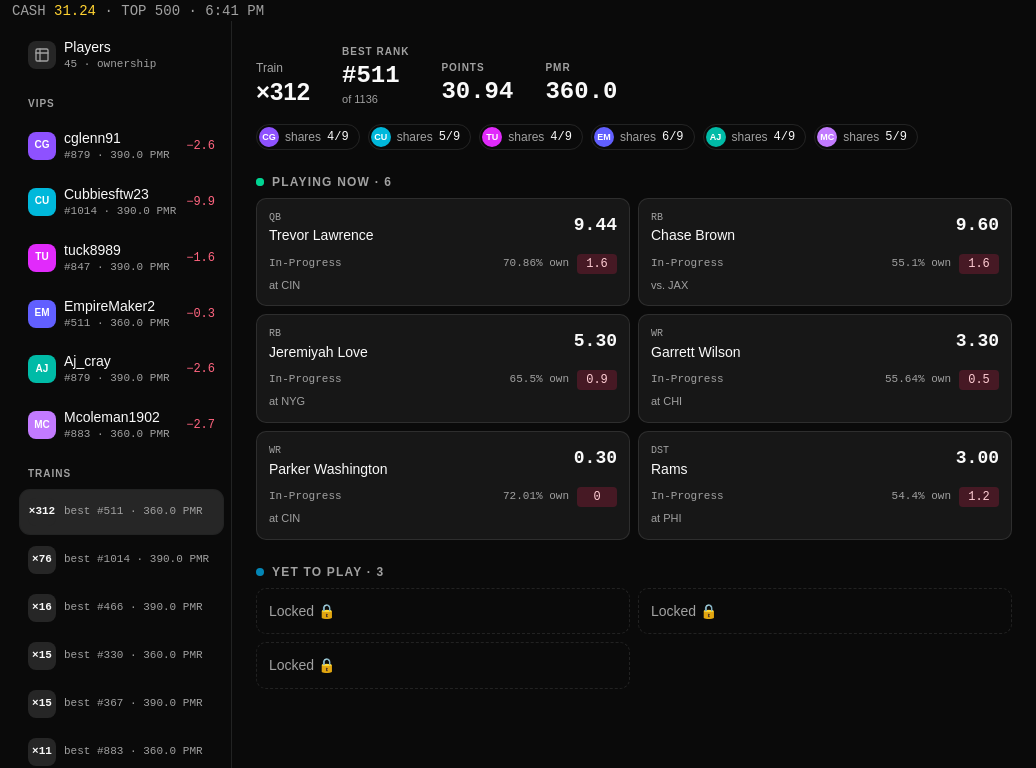
Leverage panel › swing players › follows the Train in focus on the Trains view
Click the link "×76 best #1014 · 390.0 PMR" at (122, 560), box 20,538 -> 223,582
(page scrolled)
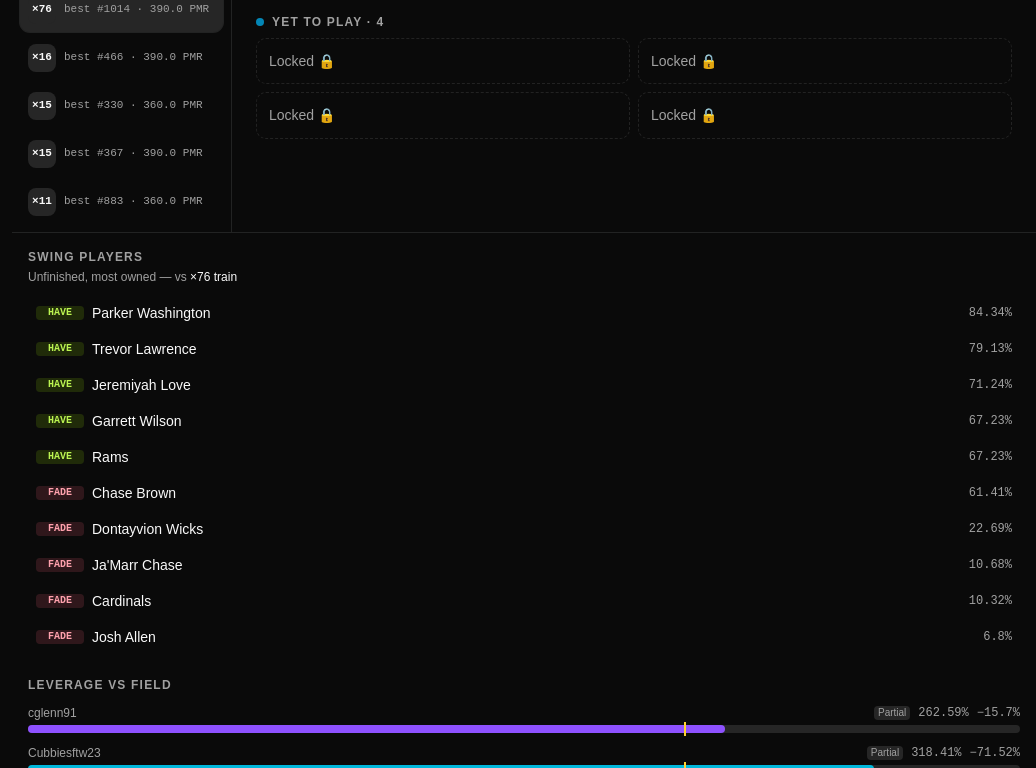
Expected: the list item "HAVE Jeremiyah Love 71.24%" is shown, 36,377 -> 1012,393
Expected: the text "Unfinished, most owned — vs ×76 train" is shown, 28,270 -> 237,284
Expected: the list item "FADE Chase Brown 61.41%" is shown, 36,485 -> 1012,501
